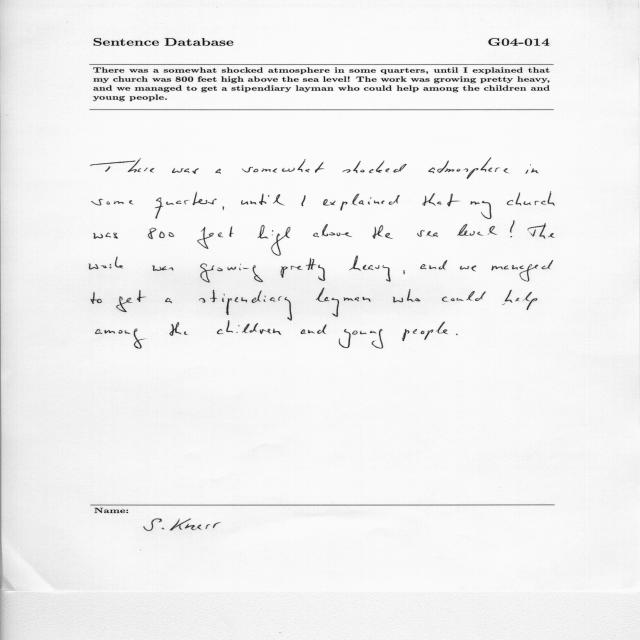word: (199, 290, 292, 320), (429, 158, 509, 179), (155, 192, 217, 219), (316, 288, 371, 317), (492, 260, 554, 282), (323, 194, 400, 211), (200, 264, 263, 283), (242, 159, 324, 173), (349, 256, 391, 282), (280, 258, 325, 281), (96, 328, 145, 349), (258, 225, 291, 256), (91, 158, 155, 173), (217, 320, 281, 335), (402, 322, 448, 341), (197, 226, 234, 249), (339, 329, 383, 348), (342, 161, 407, 173), (507, 191, 555, 206), (502, 290, 538, 310), (116, 290, 146, 312), (422, 193, 460, 207), (241, 194, 285, 206), (313, 224, 352, 237), (442, 291, 486, 302), (457, 224, 497, 236), (527, 223, 555, 239), (89, 257, 123, 270), (471, 201, 492, 219), (393, 289, 420, 302), (148, 228, 174, 239), (373, 225, 393, 239), (421, 260, 448, 270), (170, 322, 189, 336), (92, 199, 133, 205), (301, 325, 327, 334), (94, 232, 118, 239), (172, 168, 199, 174), (417, 230, 438, 237), (152, 265, 174, 271), (91, 292, 102, 304), (526, 164, 539, 174), (460, 266, 476, 272), (510, 221, 514, 238), (302, 195, 306, 206), (165, 298, 172, 303), (215, 169, 221, 174), (403, 270, 405, 274), (223, 206, 224, 210), (456, 334, 458, 335)
